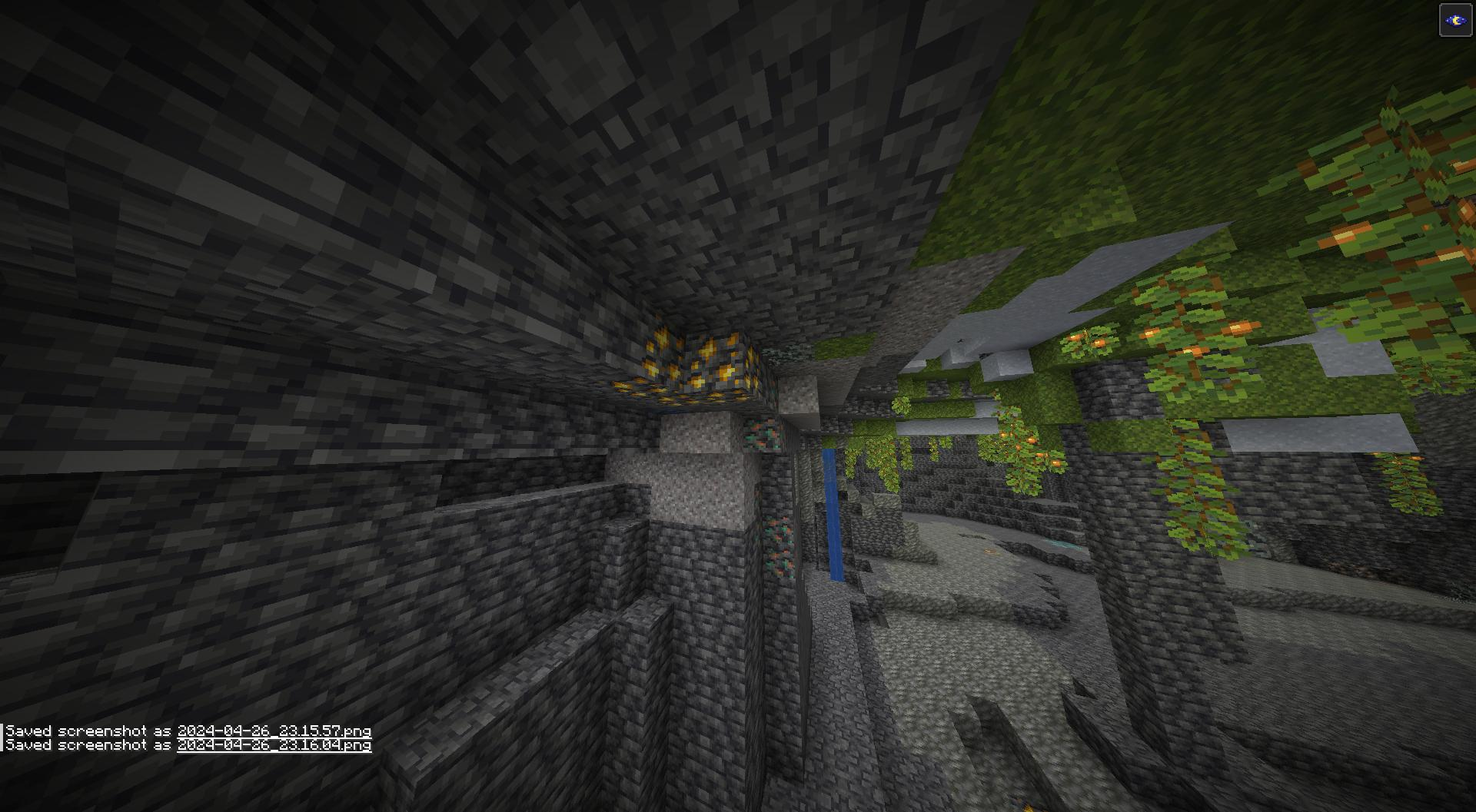diamond ore: (1047, 533, 1085, 556)
gold ore: (686, 330, 745, 391), (640, 315, 689, 385), (626, 384, 748, 406)
